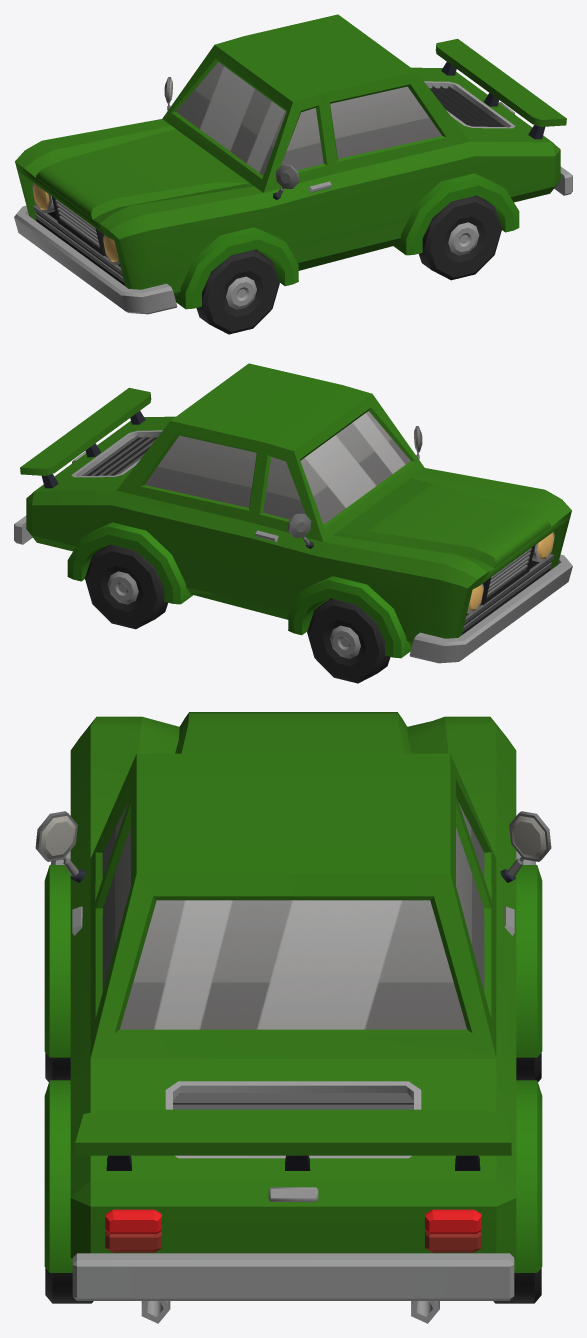
File: Car_9_I.gltf
The picture shows the model from 3 angles, top to bottom: view 1: azimuth 30°, elevation 25°; view 2: azimuth 150°, elevation 25°; view 3: azimuth 270°, elevation 25°; orthographic projection. The views are drawn at different scales.
Parts seen in each view (by area): view 1: Car_9_I, RL, FL; view 2: Car_9_I, RR, FR; view 3: Car_9_I, RL, RR.
Part boxes in pixels (x1,y1,x2,y2): Car_9_I: [14, 14, 572, 314]; RL: [419, 195, 501, 280]; FL: [196, 249, 279, 334]; Car_9_I: [14, 363, 572, 663]; RR: [85, 544, 167, 629]; FR: [307, 598, 390, 683]; Car_9_I: [35, 712, 551, 1323]; RL: [45, 1268, 93, 1303]; RR: [493, 1268, 541, 1303].
Size of the model in its own units: 3.1 by 1.28 by 1.51.
4 materials, 4 textured.
